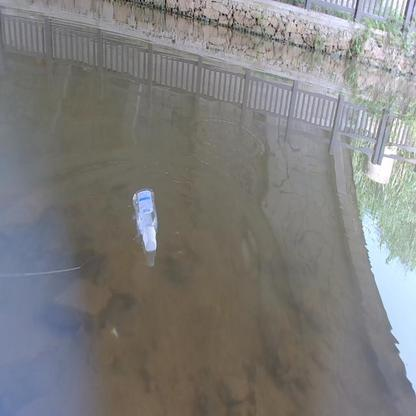plastic bottle: (131, 187, 160, 252)
